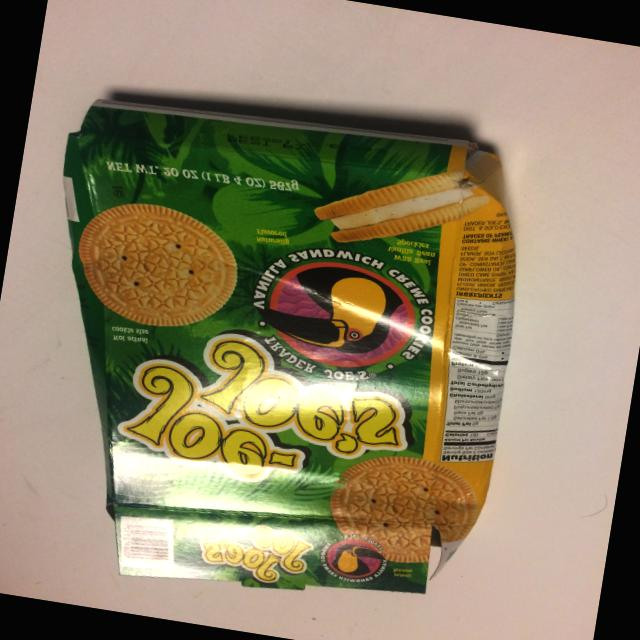Paper: (1, 84, 548, 630)
